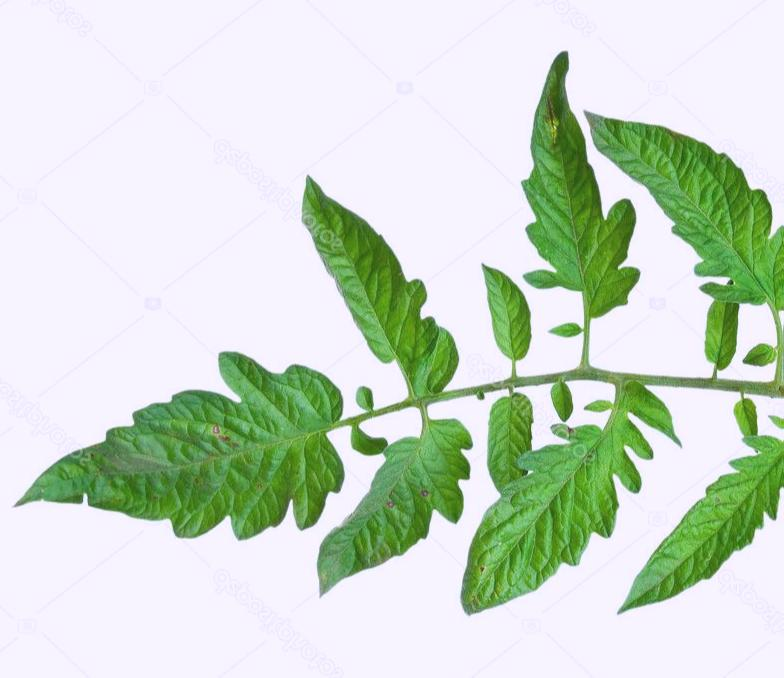Tomato leaf: (8, 346, 355, 547), (446, 385, 673, 624), (591, 108, 784, 329), (613, 409, 784, 621), (285, 176, 441, 389), (308, 402, 483, 587), (529, 39, 629, 328)
